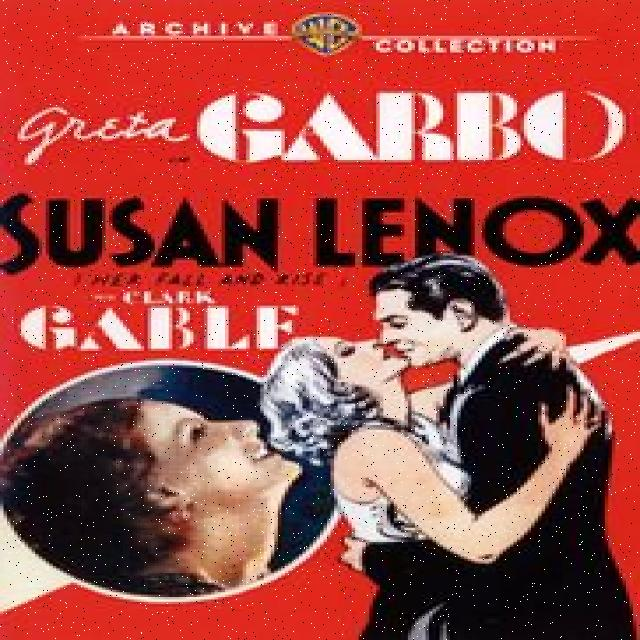movie-judul: (0, 85, 640, 277)
picture: (260, 272, 622, 640), (12, 401, 295, 586)
